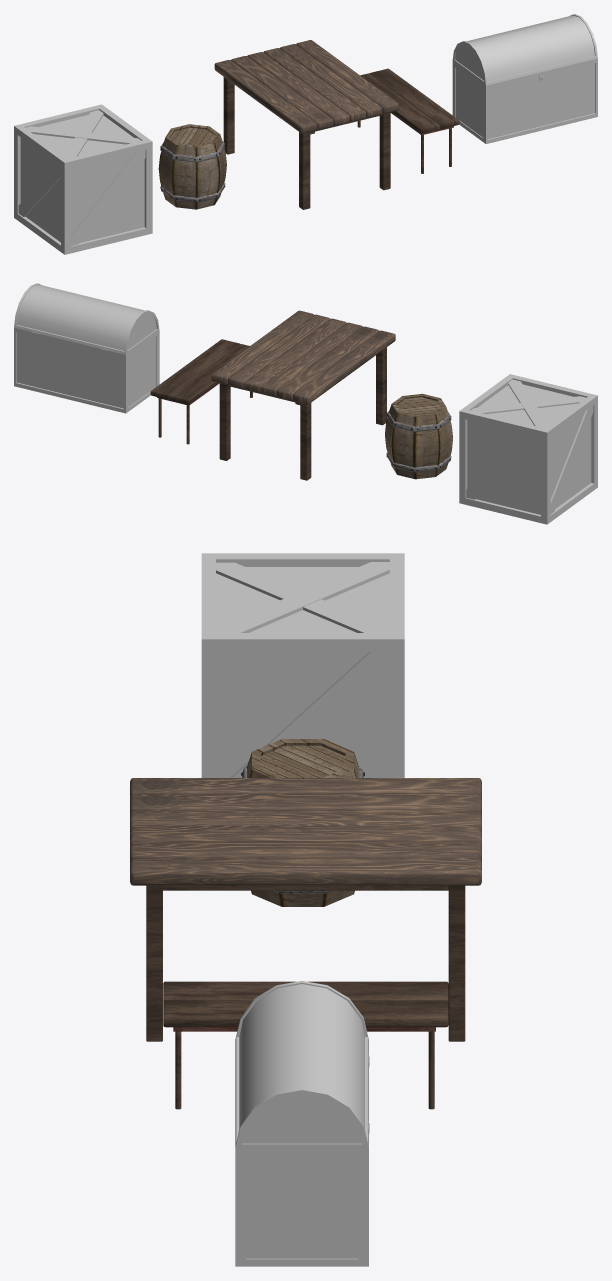
Rendered from Wooden_Props.fbx.
The picture shows the model from 3 angles, top to bottom: view 1: azimuth 30°, elevation 25°; view 2: azimuth 150°, elevation 25°; view 3: azimuth 270°, elevation 25°; orthographic projection. The views are drawn at different scales.
Visible parts, largest first — view 1: Box, Treasure_Chest, Table, Barril, Stool; view 2: Box, Treasure_Chest, Table, Barril, Stool; view 3: Table, Box, Treasure_Chest, Stool, Barril.
Boxes of the visible parts, left/top/right/bottom form: Box: left=14, top=104, right=152, bottom=254; Treasure_Chest: left=452, top=14, right=597, bottom=143; Table: left=214, top=40, right=398, bottom=209; Barril: left=158, top=124, right=226, bottom=209; Stool: left=357, top=68, right=459, bottom=173; Box: left=459, top=374, right=597, bottom=524; Treasure_Chest: left=14, top=283, right=159, bottom=413; Table: left=211, top=310, right=395, bottom=480; Barril: left=385, top=393, right=452, bottom=479; Stool: left=150, top=339, right=252, bottom=444; Table: left=130, top=778, right=481, bottom=1041; Box: left=201, top=553, right=404, bottom=777; Treasure_Chest: left=235, top=981, right=369, bottom=1266; Stool: left=163, top=981, right=448, bottom=1109; Barril: left=241, top=739, right=364, bottom=906.
Size of the model in its own units: 5.88 by 0.9569 by 1.65.
